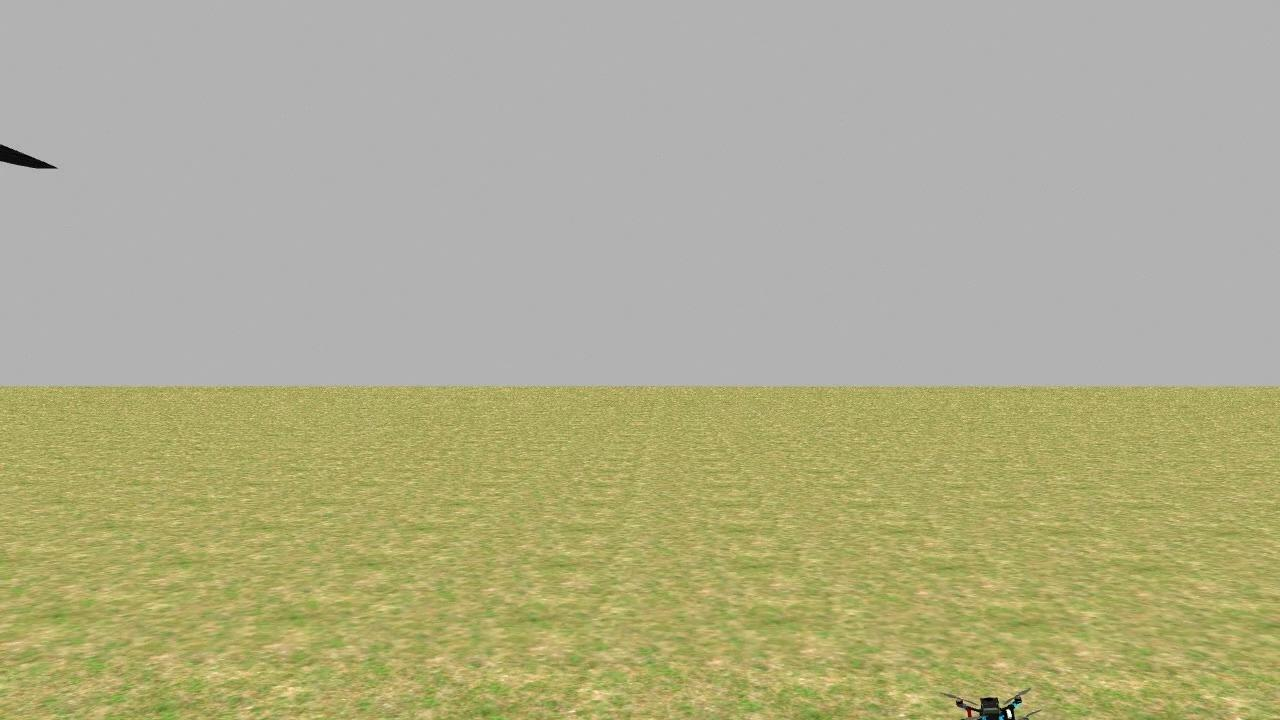UAV: (940, 672, 1033, 720)
